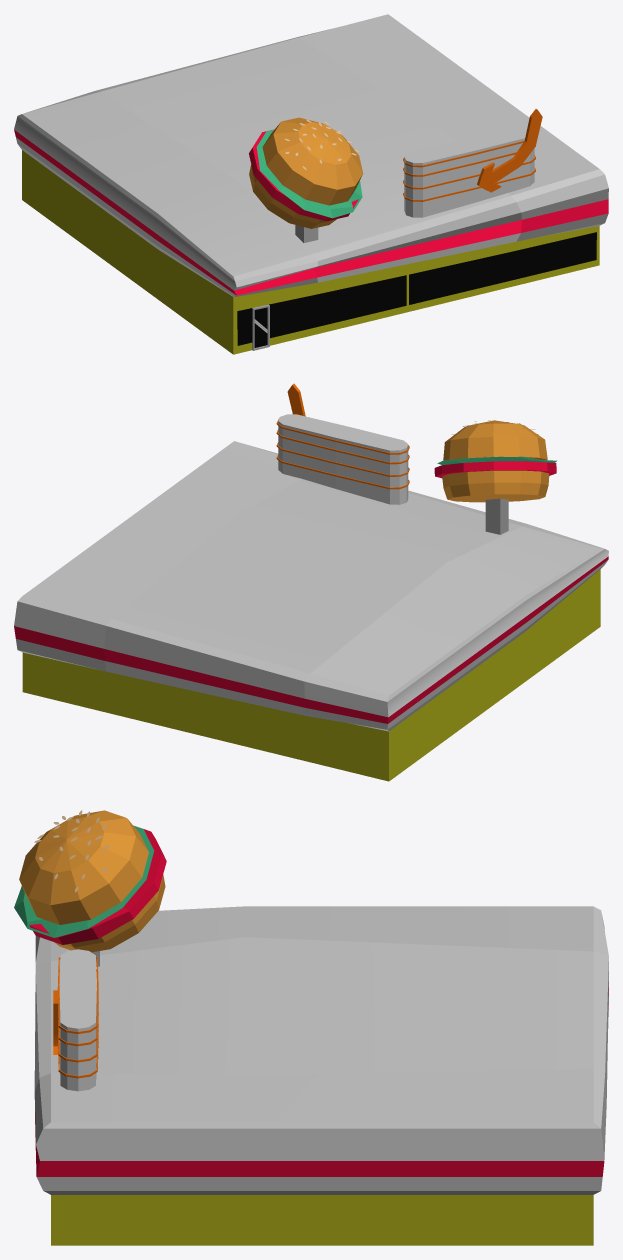
File: Envi_Rest_002_Burger.fbx
3 renders of one model, top to bottom at view 1: azimuth 30°, elevation 25°; view 2: azimuth 150°, elevation 25°; view 3: azimuth 270°, elevation 25°, orthographic. The views are drawn at different scales.
Parts seen in each view (by area): view 1: Burger_place, burger, polySurface2, pCube5, door_glass; view 2: Burger_place, burger, polySurface2, burger_support; view 3: Burger_place, burger, polySurface2.
Part boxes in pixels (box(x1,y1,x2,y2)): Burger_place: box(14, 14, 608, 354); burger: box(249, 117, 363, 228); polySurface2: box(404, 126, 534, 217); pCube5: box(477, 109, 542, 192); door_glass: box(254, 307, 267, 347); Burger_place: box(14, 441, 608, 781); burger: box(434, 420, 556, 502); polySurface2: box(278, 414, 408, 504); burger_support: box(485, 498, 508, 534); Burger_place: box(34, 906, 608, 1245); burger: box(14, 810, 166, 952); polySurface2: box(59, 949, 96, 1091).
Bounding box in the file's own units: 1431 × 719 × 1535.
